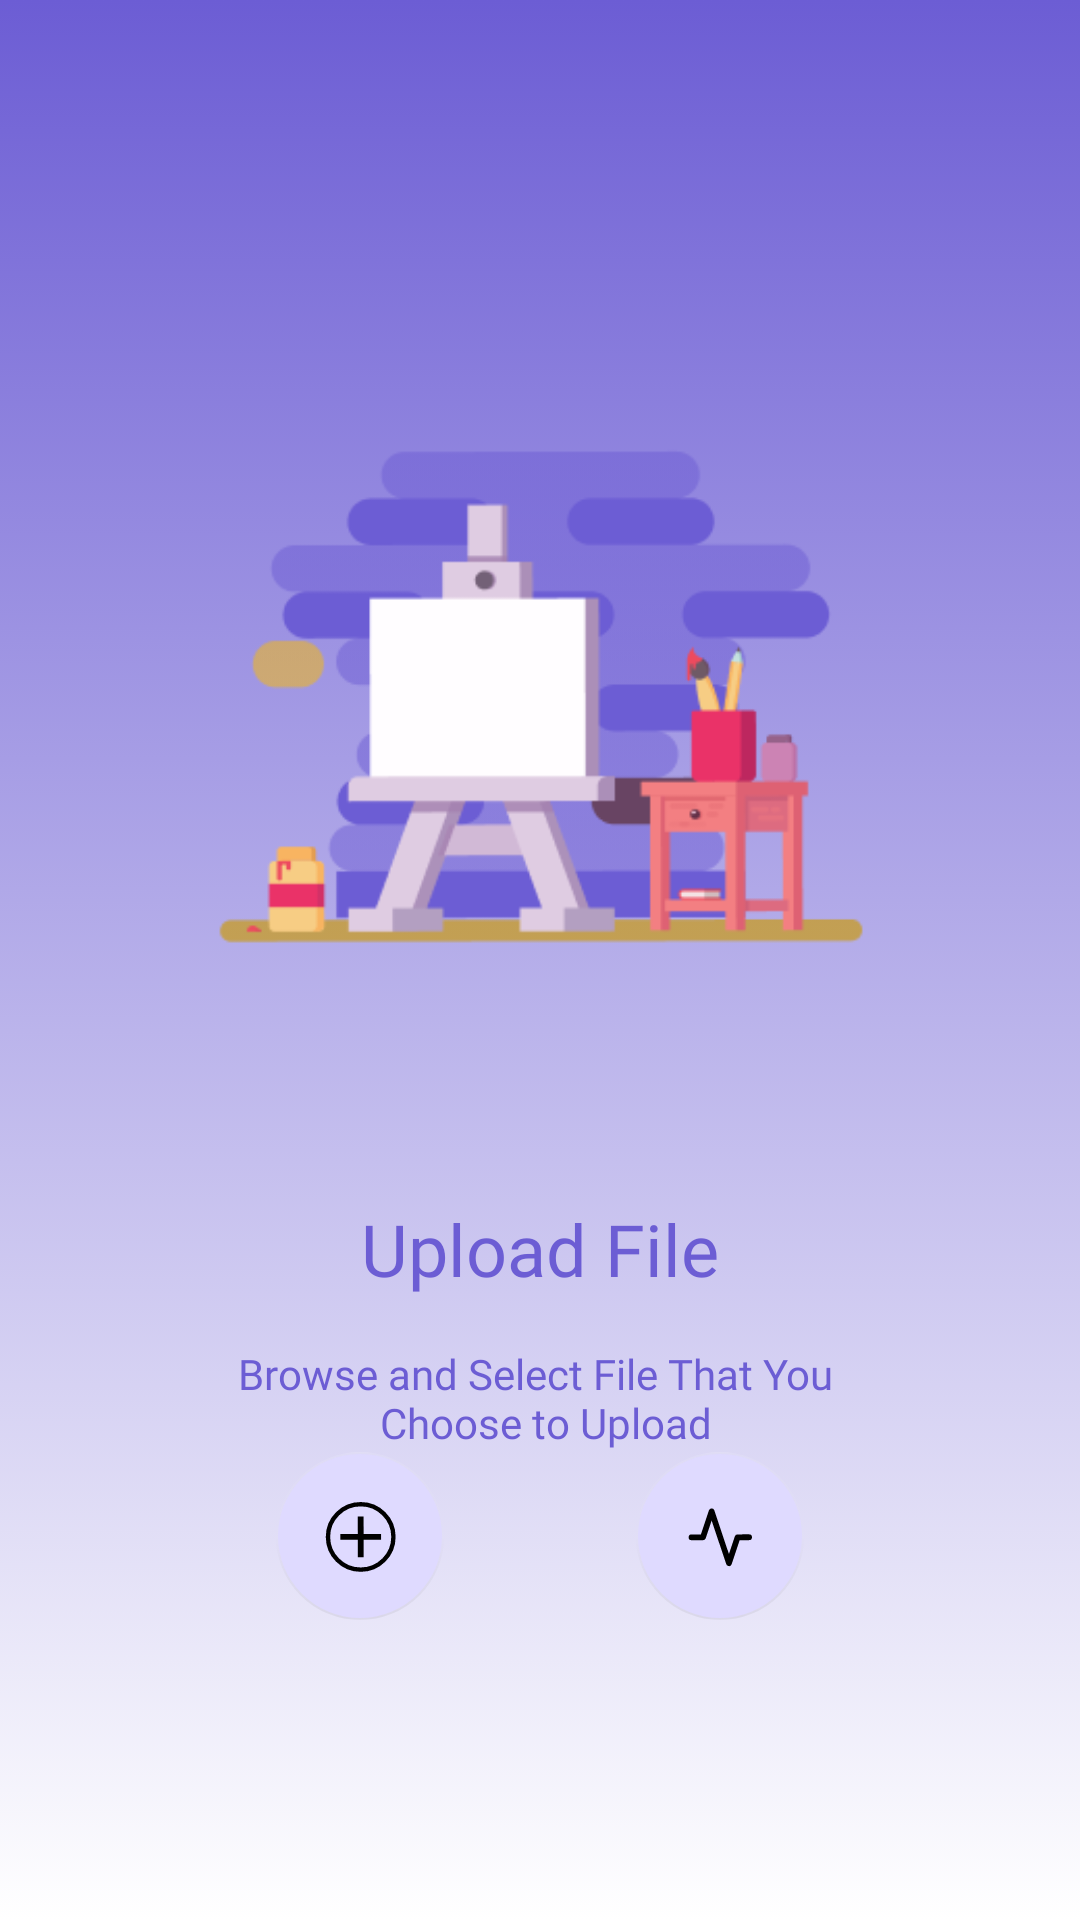

Icons on this 1080x1920 Android screen, each with its box as (left=x1, top=y1, right=x2, bottom=y2):
Analyze Icon: (left=636, top=1454, right=804, bottom=1620)
